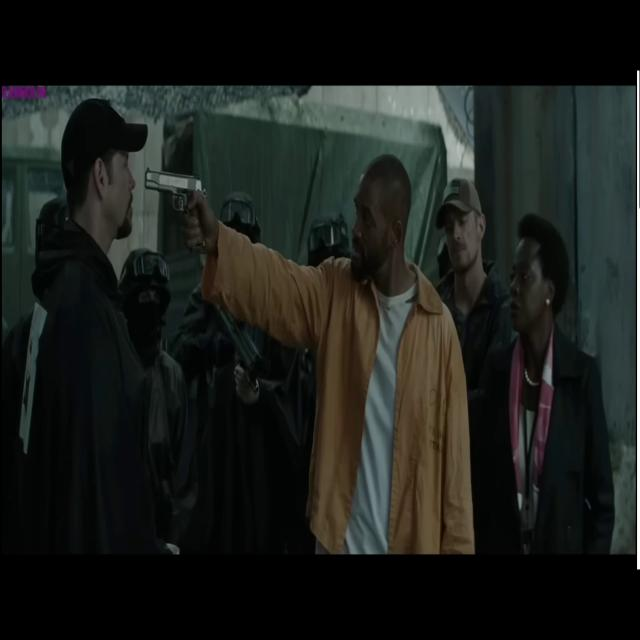weapons: (141, 146, 214, 258)
